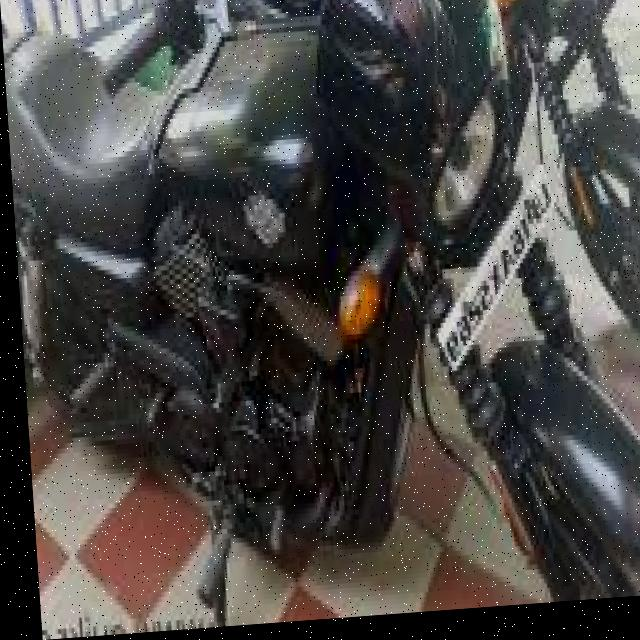bike: (0, 0, 627, 616)
